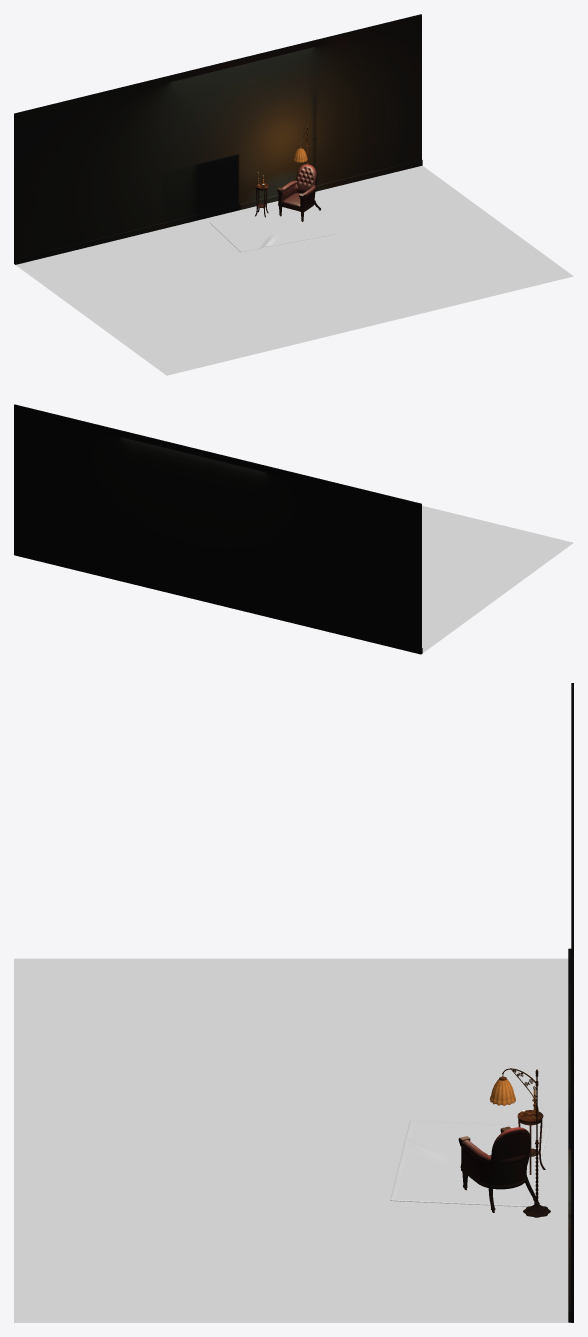
Rendered from room-hero.glb.
3 renders of one model, top to bottom at view 1: azimuth 30°, elevation 25°; view 2: azimuth 150°, elevation 25°; view 3: azimuth 270°, elevation 25°, orthographic. The views are drawn at different scales.
Parts seen in each view (by area): view 1: room_shell, room_floor, room_rug, room_chair; view 2: room_shell, room_floor; view 3: room_floor, room_rug, room_chair, room_shell, room_lamp.
Part boxes in pixels (<box>): room_shell: <box>14,14,422,264</box>; room_floor: <box>16,165,573,375</box>; room_rug: <box>209,208,334,252</box>; room_chair: <box>277,164,320,221</box>; room_shell: <box>14,404,422,654</box>; room_floor: <box>422,505,573,653</box>; room_floor: <box>14,958,570,1322</box>; room_rug: <box>390,1120,549,1206</box>; room_chair: <box>458,1126,536,1212</box>; room_shell: <box>568,683,573,1322</box>; room_lamp: <box>489,1068,550,1217</box>.
Bounding box in the file's own units: 34 × 12 × 22.1.
Materials: 8 (5 with a texture image).
